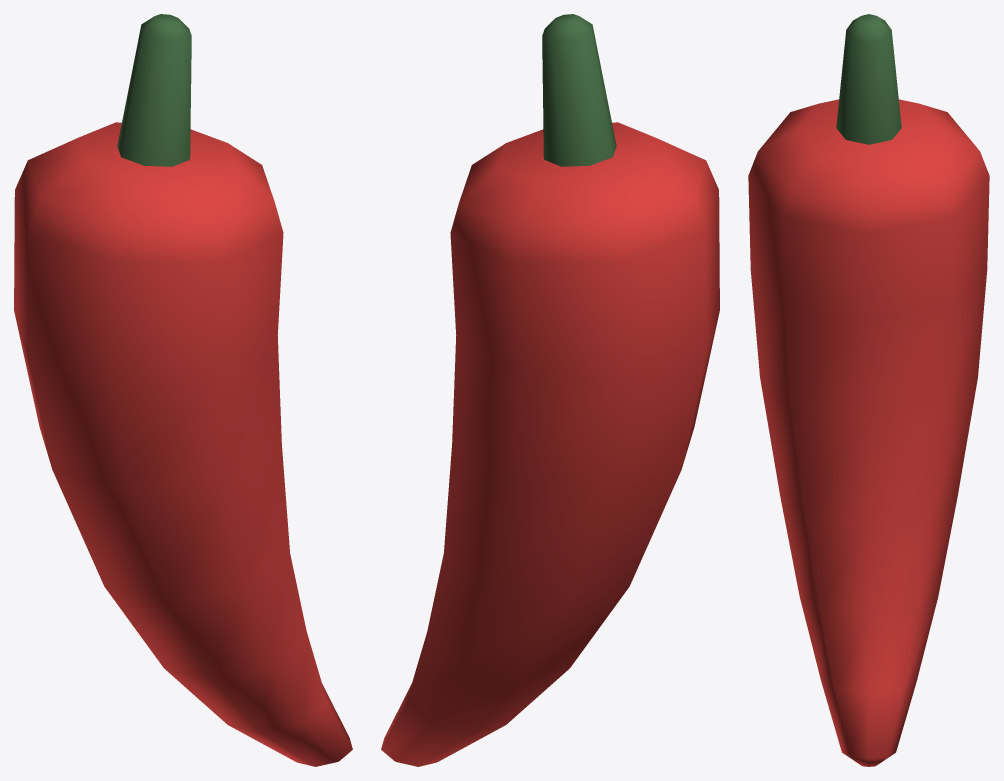
Rendered from Pepper_01_Red.fbx.
The picture shows the model from 3 angles, left to right: view 1: azimuth 30°, elevation 25°; view 2: azimuth 150°, elevation 25°; view 3: azimuth 270°, elevation 25°; orthographic projection. The views are drawn at different scales.
Visible parts, largest first — view 1: Pepper_01_Red; view 2: Pepper_01_Red; view 3: Pepper_01_Red.
Boxes of the visible parts, x1,y1,x2,y2 form: Pepper_01_Red: (14,14,352,766); Pepper_01_Red: (381,14,719,766); Pepper_01_Red: (748,14,989,766).
Size of the model in its own units: 0.1572 by 0.3655 by 0.1178.
